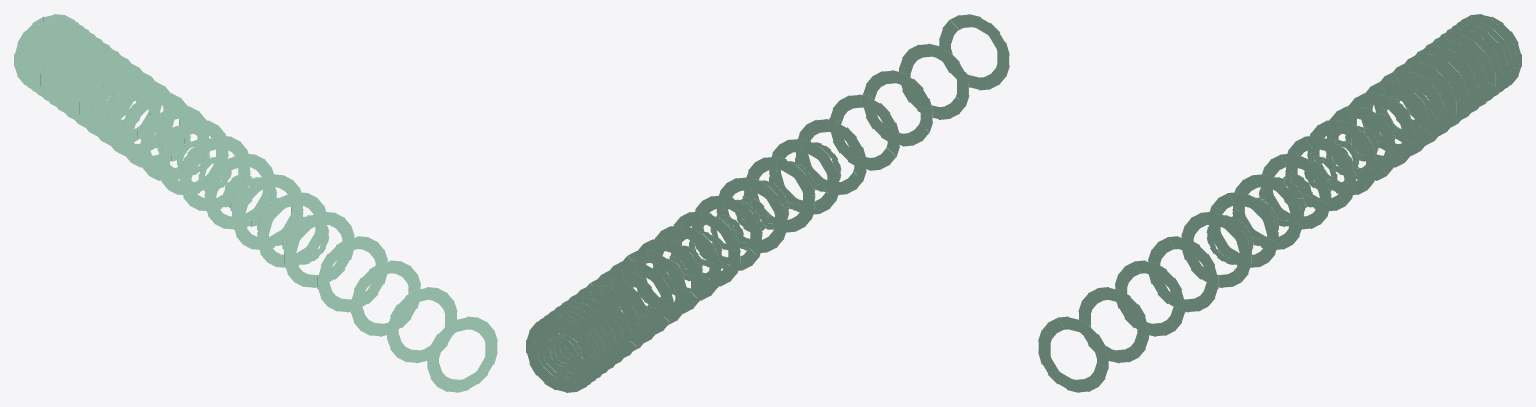
File: ITK-Pixel-Layout-Inner-Endcap-SideA.glb
The picture shows the model from 3 angles, left to right: view 1: azimuth 30°, elevation 25°; view 2: azimuth 150°, elevation 25°; view 3: azimuth 330°, elevation 25°; orthographic projection.
Visible parts, largest first — view 1: ITK_Pixel_Layout_Inner_Endcap_SideA; view 2: ITK_Pixel_Layout_Inner_Endcap_SideA; view 3: ITK_Pixel_Layout_Inner_Endcap_SideA.
Boxes of the visible parts, x1=… form: ITK_Pixel_Layout_Inner_Endcap_SideA: x1=14, y1=14, x2=497, y2=392; ITK_Pixel_Layout_Inner_Endcap_SideA: x1=526, y1=14, x2=1009, y2=392; ITK_Pixel_Layout_Inner_Endcap_SideA: x1=1038, y1=14, x2=1521, y2=392.
Size of the model in its own units: 0.2422 by 0.2422 by 2.47.
